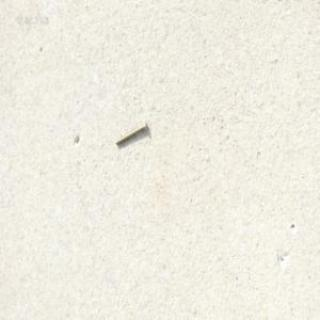Bolttrack_idkeyframe: (114, 119, 146, 145)
